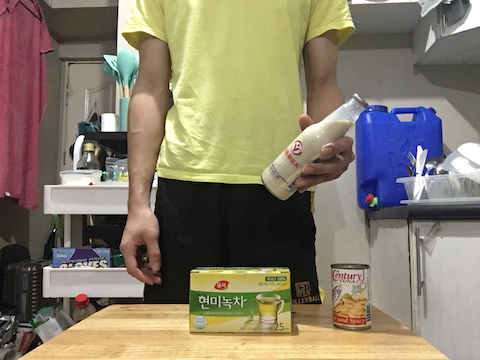bottle: (258, 88, 371, 201)
box: (181, 260, 299, 341)
can: (329, 260, 374, 333)
grab: (291, 129, 359, 198)
